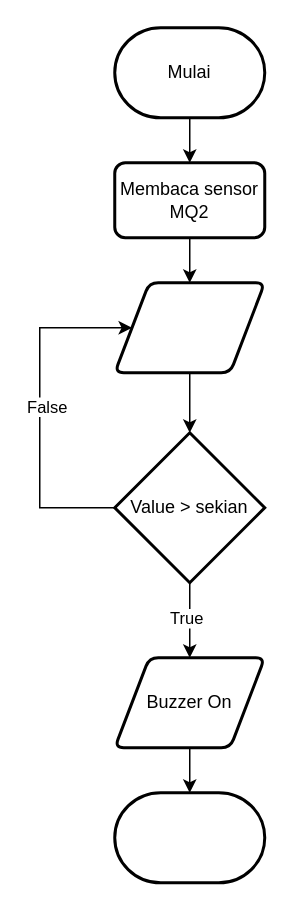
Image size: 291x909. Some labels were removed from this diagram. The shapes that lost their labels are listed below. From the top down, each one's box as (x1, y1, x2, y2) in pixels, then its label:
(112, 280, 266, 374): Value
(112, 790, 266, 884): Selesai
